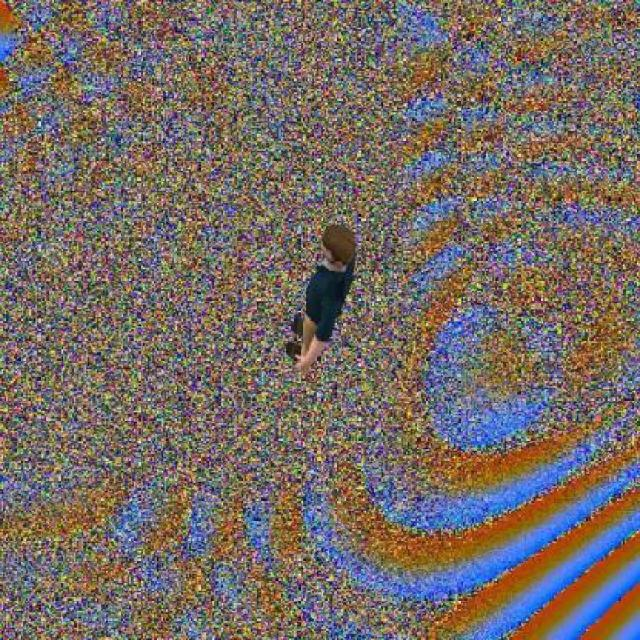Person: (283, 220, 360, 374)
